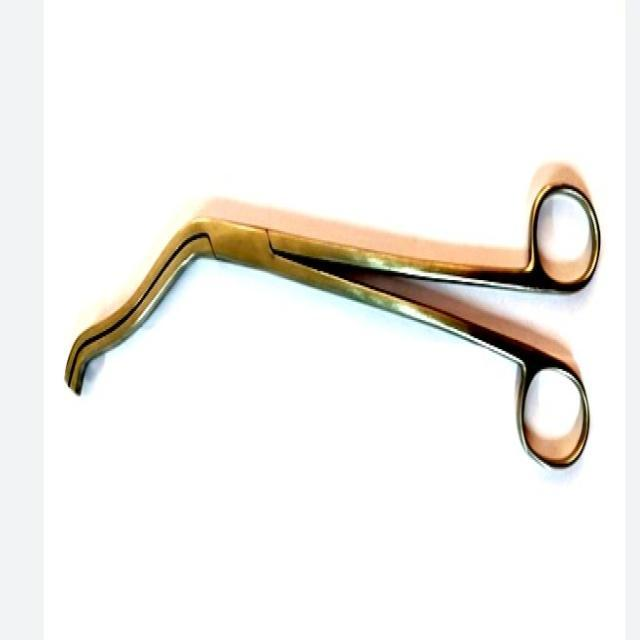Cheatle Forceps: (57, 158, 603, 474)
